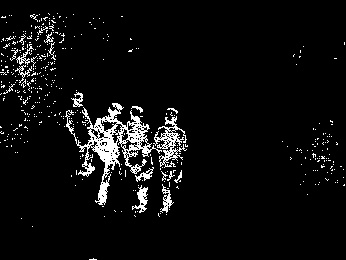person: (151, 106, 189, 214), (91, 100, 129, 205), (121, 104, 154, 214), (66, 90, 96, 178)
